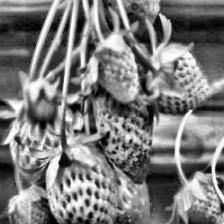Gray Mold: (90, 46, 154, 186)
